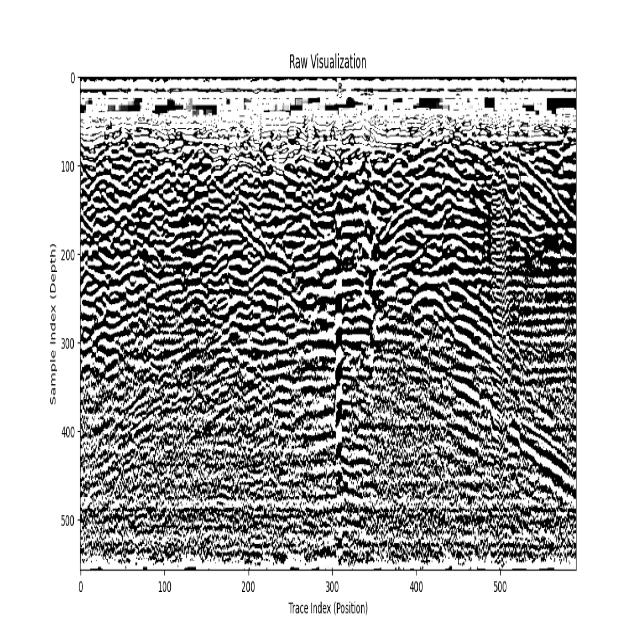anomaly: (387, 267, 576, 522), (331, 197, 347, 513)
